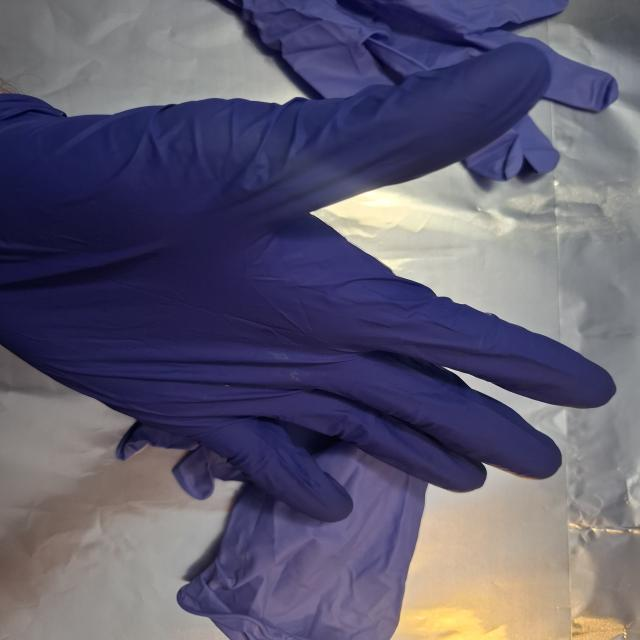glove_on: (0, 38, 622, 525)
